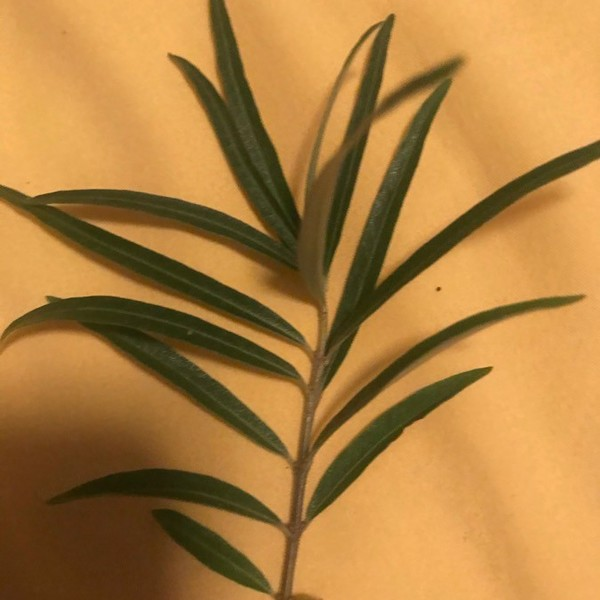obstacle: (13, 0, 561, 589)
